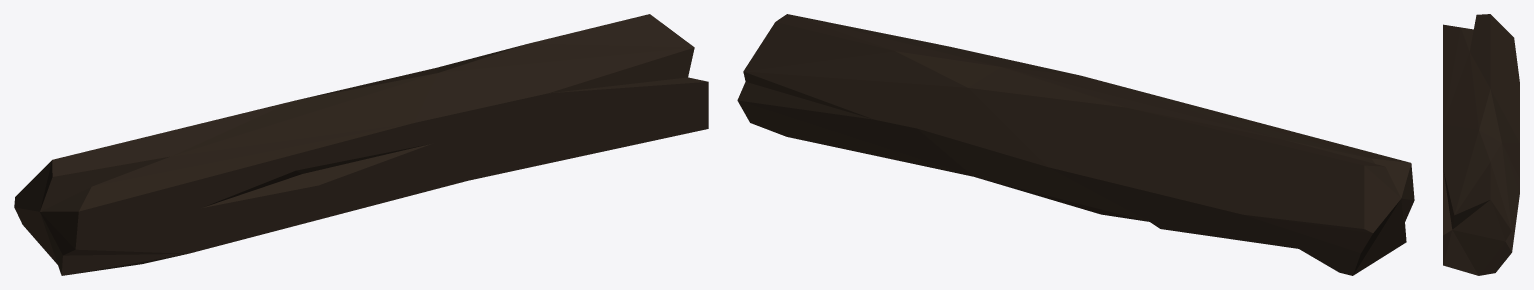
Rendered from Wood_Cylinder.fbx.
The picture shows the model from 3 angles, left to right: view 1: azimuth 30°, elevation 25°; view 2: azimuth 150°, elevation 25°; view 3: azimuth 270°, elevation 25°; orthographic projection. The views are drawn at different scales.
Visible parts, largest first — view 1: Wood_Cylinder; view 2: Wood_Cylinder; view 3: Wood_Cylinder.
Part boxes in pixels (x1,y1,x2,y2): Wood_Cylinder: [14, 14, 708, 275]; Wood_Cylinder: [737, 14, 1414, 275]; Wood_Cylinder: [1443, 14, 1519, 275].
Bounding box in the file's own units: 1117 × 193 × 181.
